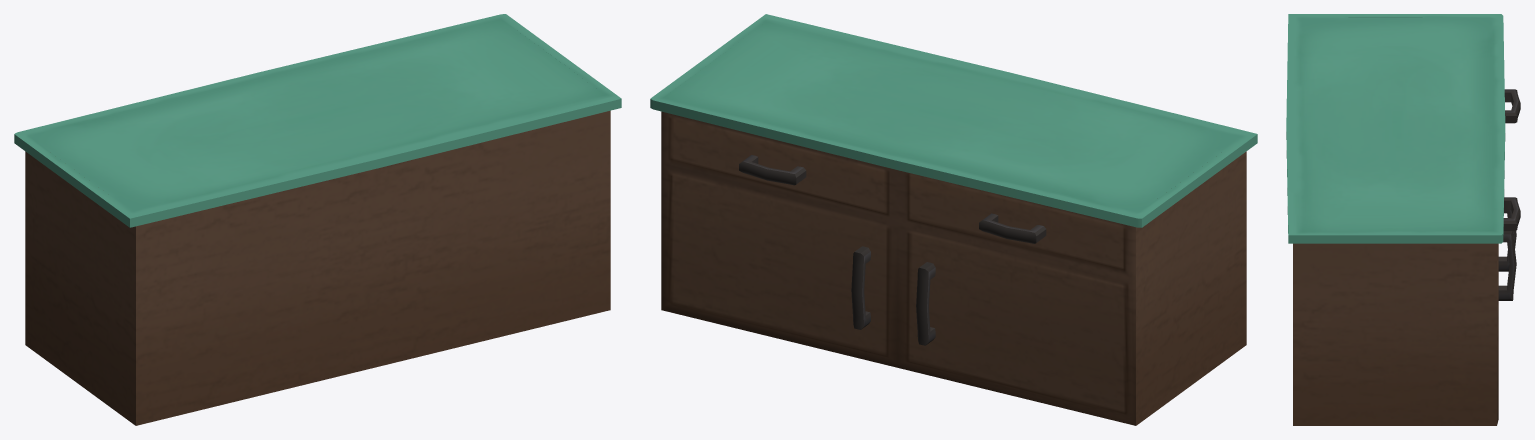
Rendered from Prop_KitchenCounter.fbx.
3 renders of one model, left to right at view 1: azimuth 30°, elevation 25°; view 2: azimuth 150°, elevation 25°; view 3: azimuth 270°, elevation 25°, orthographic. The views are drawn at different scales.
Parts seen in each view (by area): view 1: countertop; view 2: countertop; view 3: countertop.
Part boxes in pixels (x1=…): countertop: x1=14, y1=14, x2=621, y2=425; countertop: x1=650, y1=14, x2=1257, y2=425; countertop: x1=1286, y1=14, x2=1520, y2=425.
Bounding box in the file's own units: 347 × 143 × 155.
